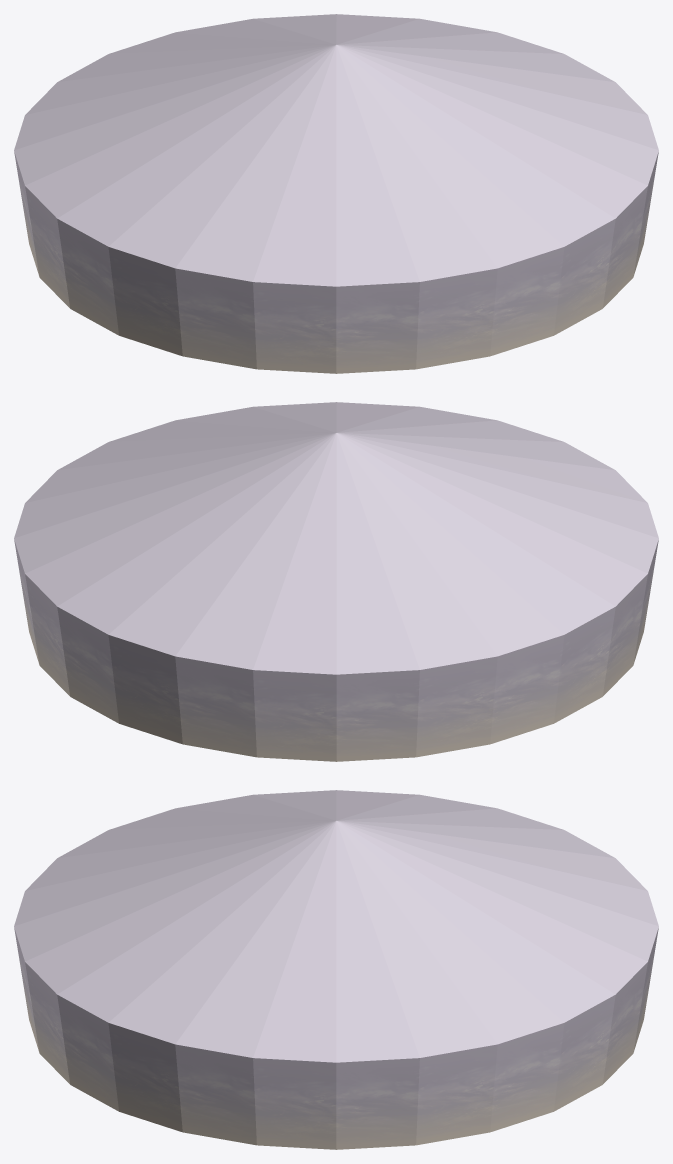
3 renders of one model, top to bottom at view 1: azimuth 30°, elevation 25°; view 2: azimuth 150°, elevation 25°; view 3: azimuth 270°, elevation 25°, orthographic.
Visible parts, largest first — view 1: mesh00; view 2: mesh00; view 3: mesh00.
Boxes of the visible parts, <box> form: mesh00: <box>14,14,658,373</box>; mesh00: <box>14,402,658,761</box>; mesh00: <box>14,790,658,1149</box>.
Size of the model in its own units: 33260 by 11330 by 33260.
